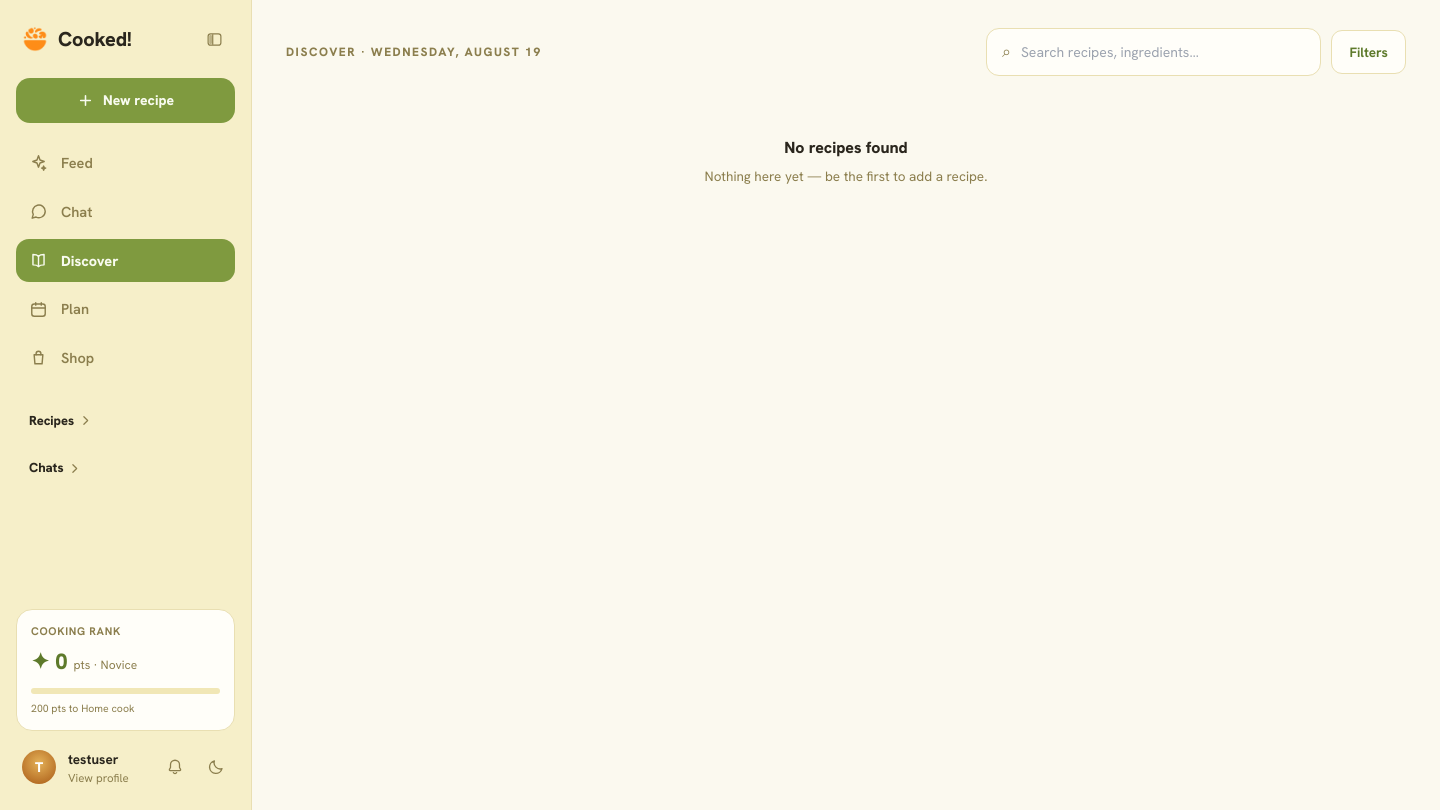
Test case: BrowsePage search › names the term in the empty state rather than blaming the filters
Expected: the text "No recipes found" is shown, [784,137,908,158]
Type "kohlrabi" into the field labelled "Search recipes" at (1163, 52), box [1021,42,1305,62]
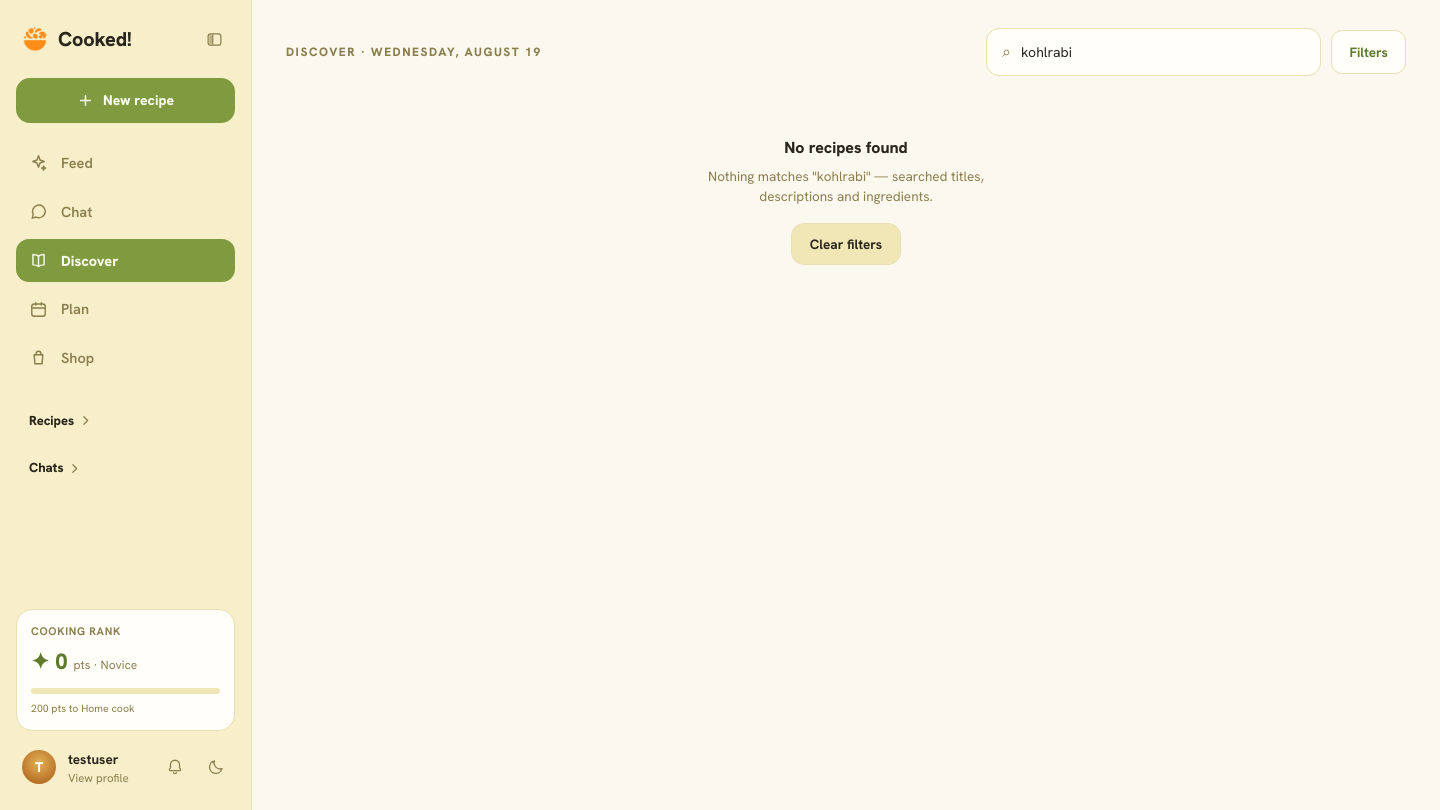
Expected: the text "Nothing matches \"kohlrabi\" — searched titles, descriptions and ingredients." is shown, [686,166,1006,206]
